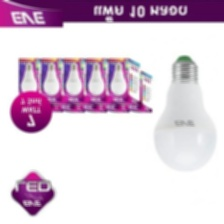carton: (104, 56, 143, 106), (81, 57, 118, 107), (60, 56, 96, 107), (98, 74, 135, 118), (53, 71, 89, 114), (37, 57, 68, 105), (122, 70, 154, 116), (76, 74, 110, 117), (15, 56, 42, 101)
light_bulb: (147, 49, 221, 178)
